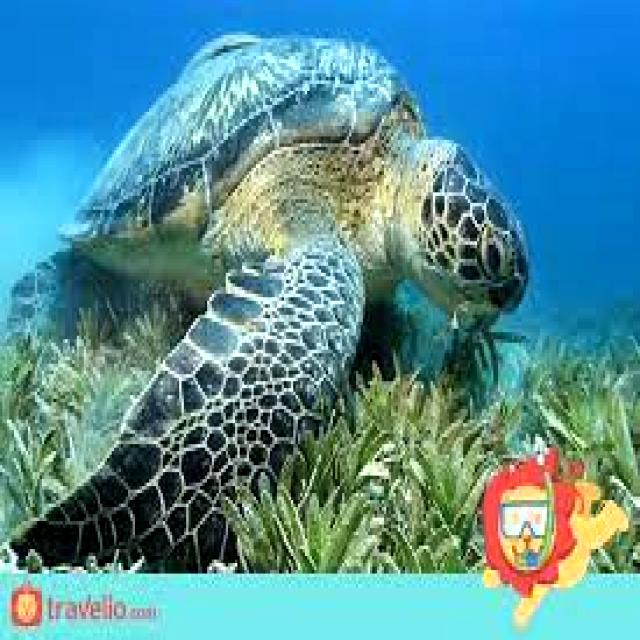Sea turtle: (18, 28, 530, 538)
